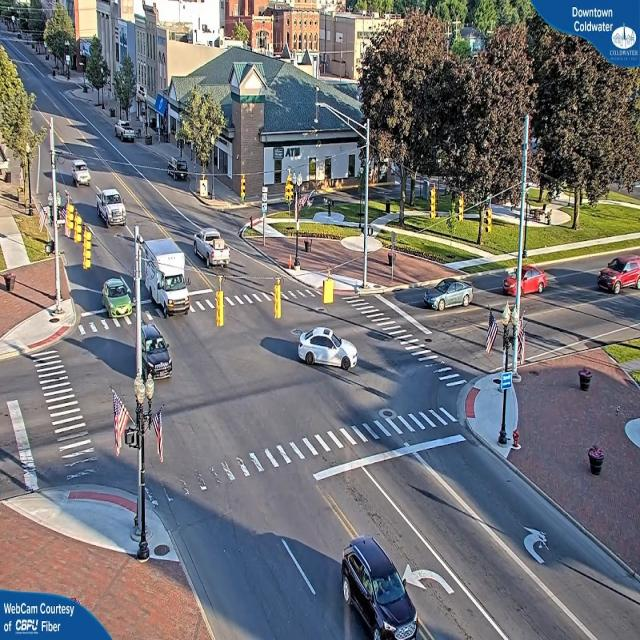car: (341, 536, 418, 639), (296, 326, 358, 370), (426, 278, 474, 311), (597, 258, 640, 294), (195, 230, 231, 270), (143, 340, 175, 381), (94, 188, 128, 226), (104, 277, 136, 317), (502, 268, 546, 296), (74, 158, 92, 187), (117, 121, 137, 145)
truck: (140, 237, 190, 317)
